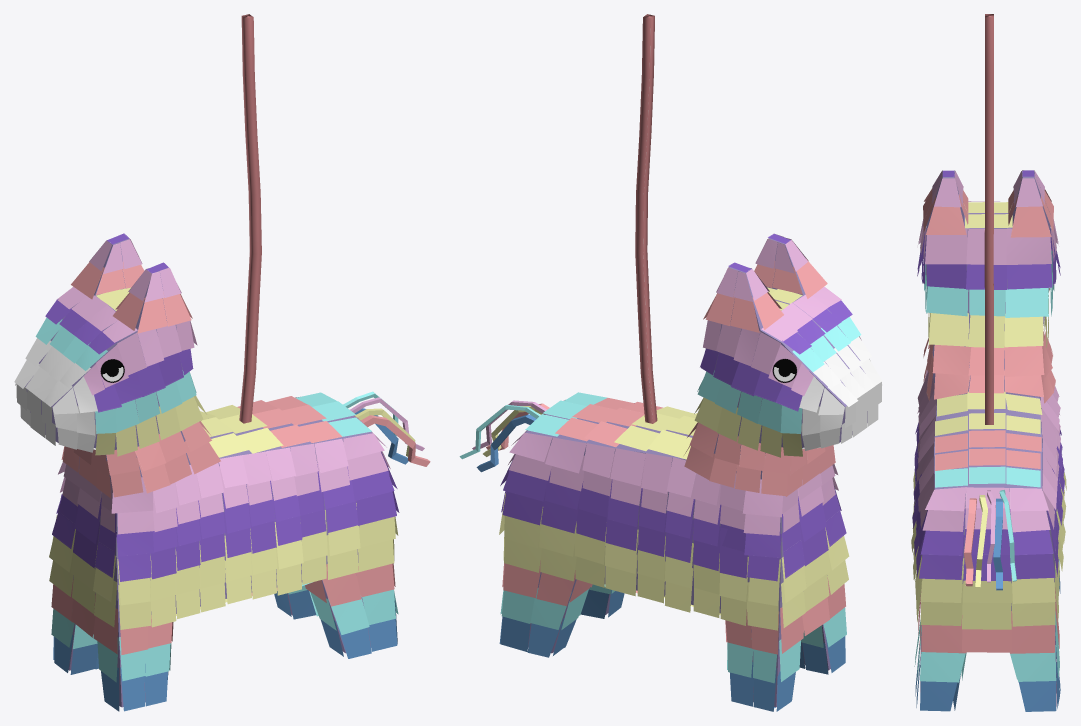
Rendered from lama.fbx.
3 views of the same model, side by side, from view 1: azimuth 30°, elevation 25°; view 2: azimuth 150°, elevation 25°; view 3: azimuth 270°, elevation 25° (orthographic).
Visible parts, largest first — view 1: polySurface3114; view 2: polySurface3114; view 3: polySurface3114.
Part boxes in pixels (left/top/right/bottom): polySurface3114: left=14, top=14, right=430, bottom=711; polySurface3114: left=459, top=14, right=882, bottom=711; polySurface3114: left=911, top=14, right=1066, bottom=711.
Bounding box in the file's own units: 3.18 × 4.9 × 1.08.
